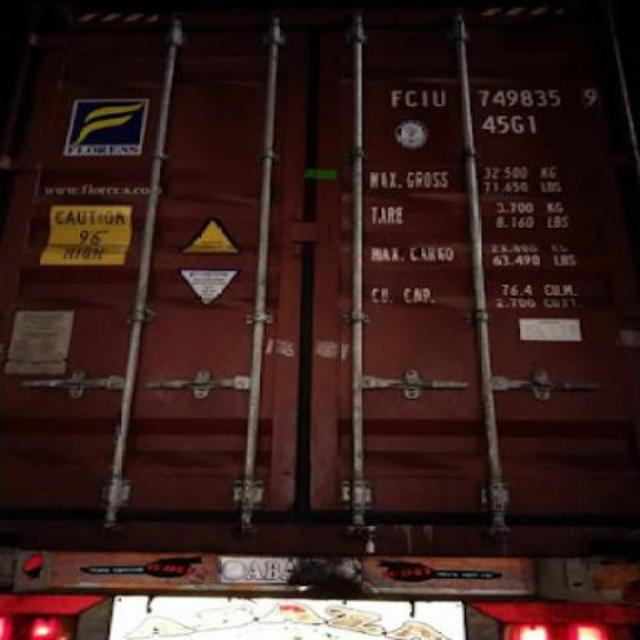3: (530, 82, 548, 111)
4: (490, 82, 506, 110)
5: (548, 82, 562, 114)
7: (476, 85, 489, 109)
8: (518, 82, 534, 110)
9: (582, 85, 598, 112), (504, 85, 518, 108)
C: (404, 85, 418, 111)
F: (388, 84, 404, 112)
I: (420, 86, 430, 112)
